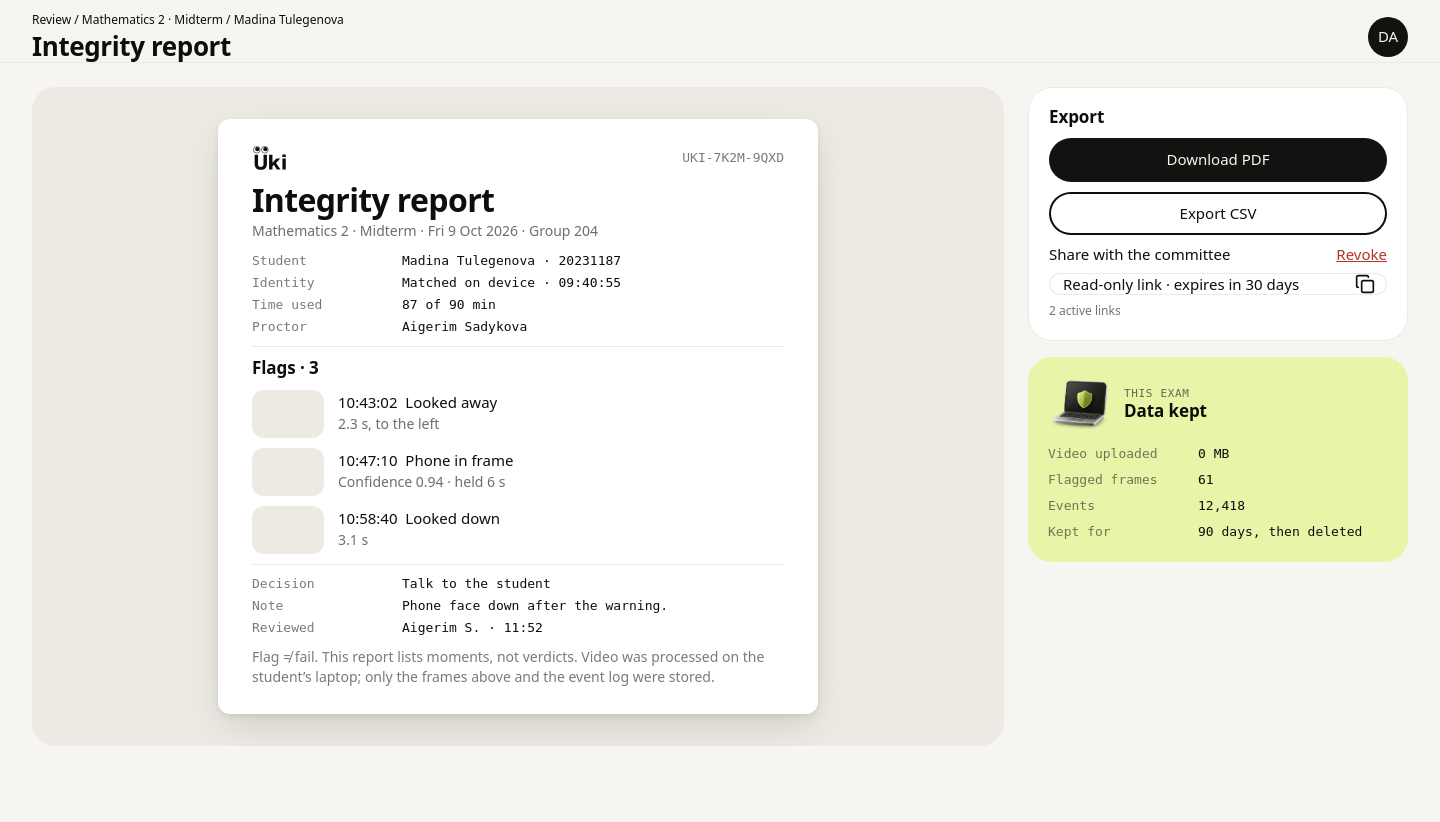
Test: 3.4 Integrity report › Revoke beside Share link withdraws the report's links and says how many
Expected: the text "2 active links" is shown, [1049,303,1121,320]
Step 1. Click the button with aria-label "Revoke every link to this report" → coordinates (1362, 255), box [1336,245,1387,265]
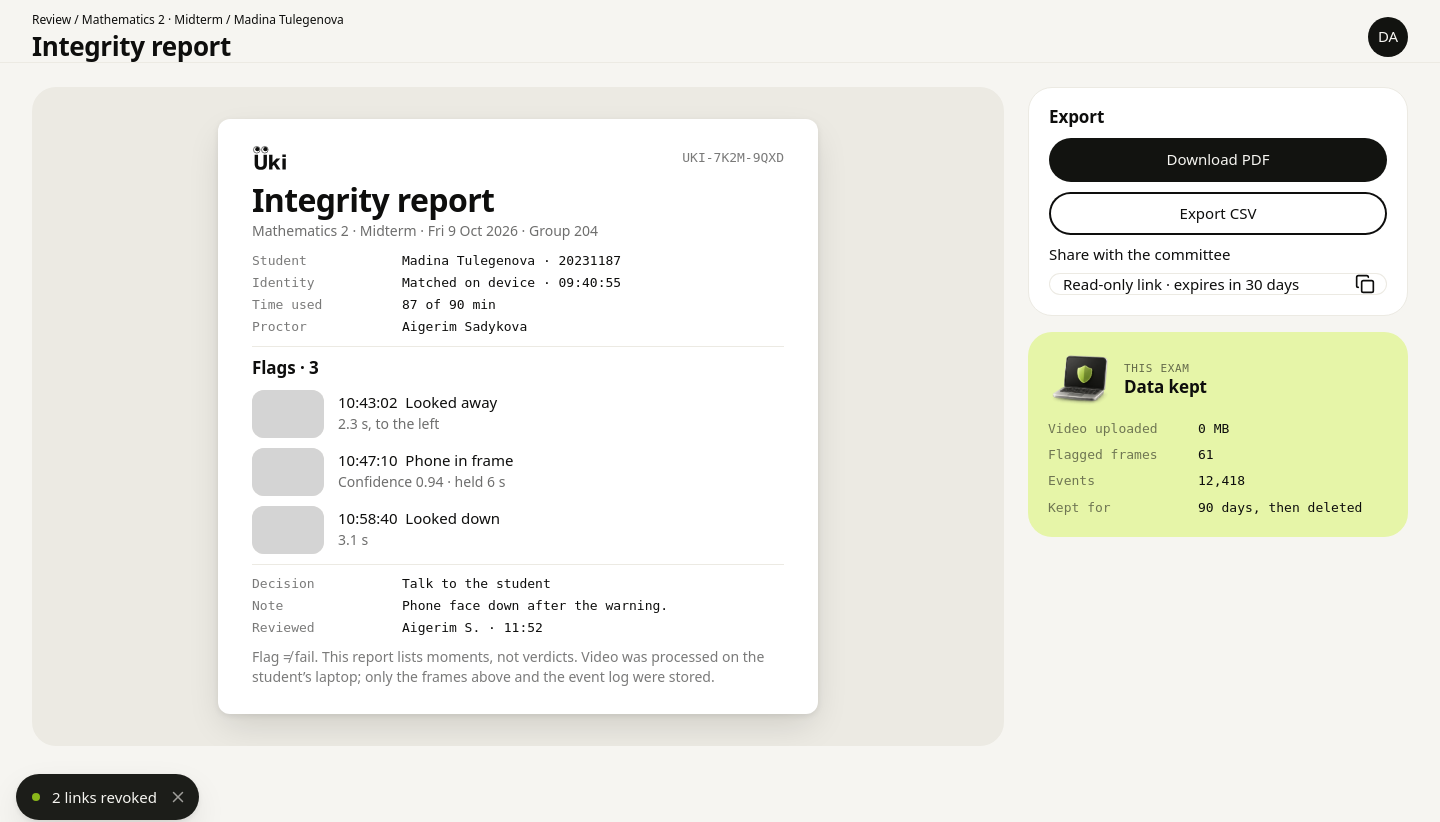
Result: the text "2 links revoked" is shown at [52,786,157,808]
Result: the button with test id "share-revoke" is gone
Result: the text "2 active links" is gone
